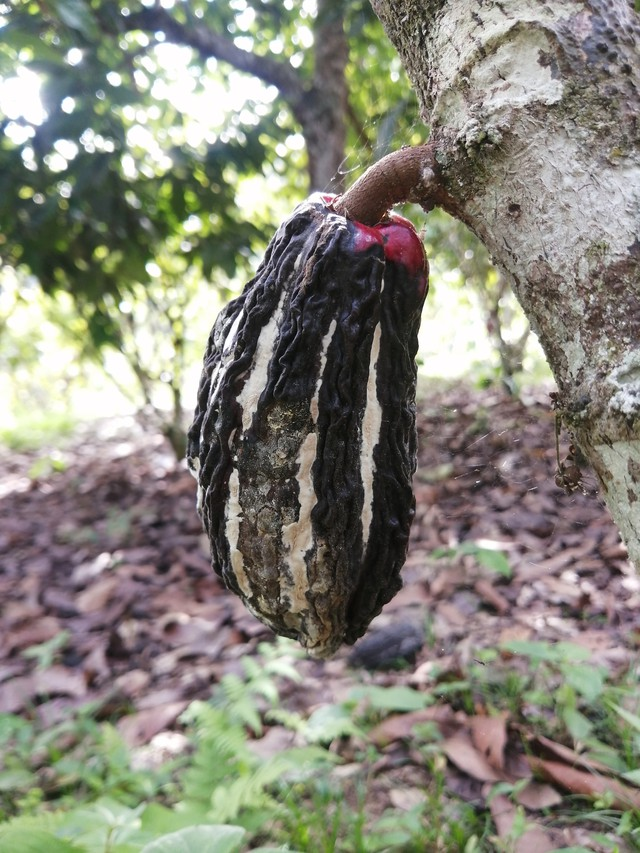moniliophthora roreri: (156, 182, 460, 674)
